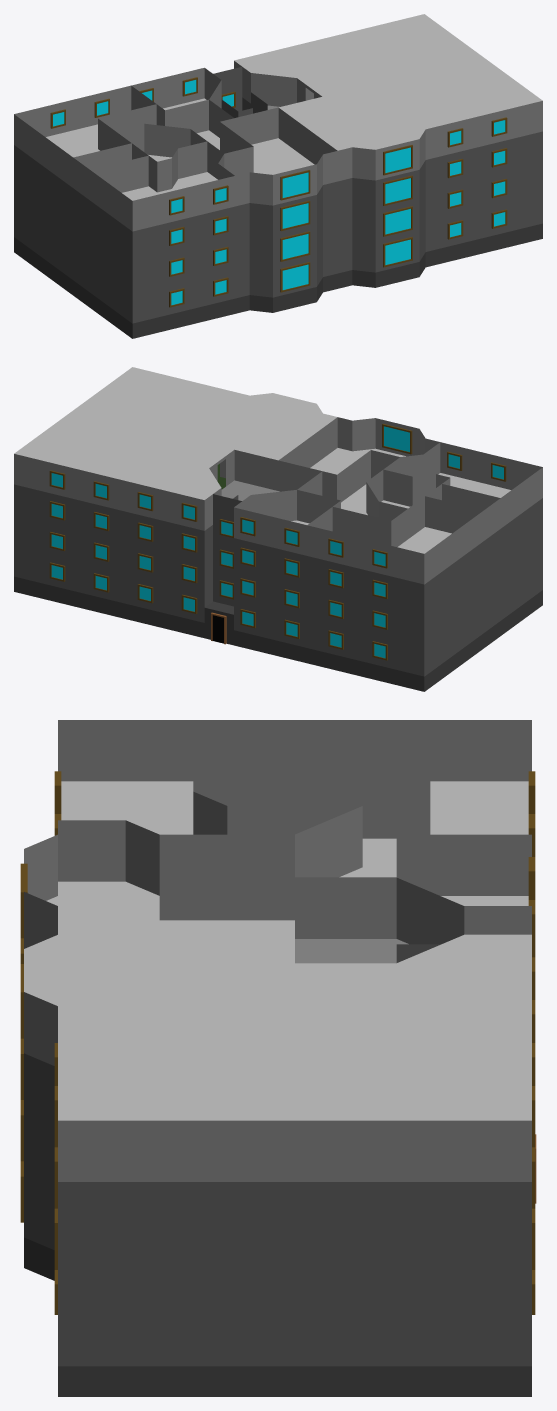
File: level_01_mockup.fbx
The picture shows the model from 3 angles, top to bottom: view 1: azimuth 30°, elevation 25°; view 2: azimuth 150°, elevation 25°; view 3: azimuth 270°, elevation 25°; orthographic projection. The views are drawn at different scales.
Parts seen in each view (by area): view 1: Plane.004, Plane.001, Plane.006, Plane.059, Plane.005, Plane.037, Plane.039, Plane.040, Plane.038, Plane.041, Plane.047, Plane.048 (+9 smaller); view 2: Plane.004, Plane.001, Plane.006, Plane.059, Plane.005, Plane.031, Plane.021, Plane.034, Plane.036, Plane.035, Plane.037, Plane.032 (+4 smaller); view 3: Plane.004, Plane.006, Plane.001, Plane.059, Plane.005, Plane.037, Plane.003.
Boxes of the visible parts, <box> form: Plane.004: <box>14,61,542,338</box>; Plane.001: <box>14,61,542,338</box>; Plane.006: <box>234,14,542,150</box>; Plane.059: <box>46,98,314,200</box>; Plane.005: <box>213,67,279,117</box>; Plane.037: <box>50,77,197,128</box>; Plane.039: <box>280,262,310,292</box>; Plane.040: <box>280,200,310,231</box>; Plane.038: <box>280,231,310,261</box>; Plane.041: <box>280,170,310,200</box>; Plane.047: <box>383,237,412,267</box>; Plane.048: <box>383,206,412,236</box>; Plane.004: <box>14,417,542,691</box>; Plane.001: <box>14,418,542,690</box>; Plane.006: <box>14,367,337,499</box>; Plane.059: <box>291,448,510,553</box>; Plane.005: <box>204,480,279,645</box>; Plane.031: <box>49,562,197,613</box>; Plane.021: <box>49,532,197,583</box>; Plane.034: <box>49,501,197,552</box>; Plane.036: <box>240,547,387,598</box>; Plane.035: <box>240,578,387,629</box>; Plane.037: <box>240,517,387,568</box>; Plane.032: <box>240,609,387,660</box>; Plane.004: <box>24,720,531,1396</box>; Plane.006: <box>24,920,531,1120</box>; Plane.001: <box>24,720,531,1396</box>; Plane.059: <box>46,781,528,920</box>; Plane.005: <box>295,939,440,963</box>; Plane.037: <box>528,771,535,944</box>; Plane.003: <box>295,939,440,963</box>.
Size of what is drawn, in the model's own units: 28 by 15.23 by 9.
